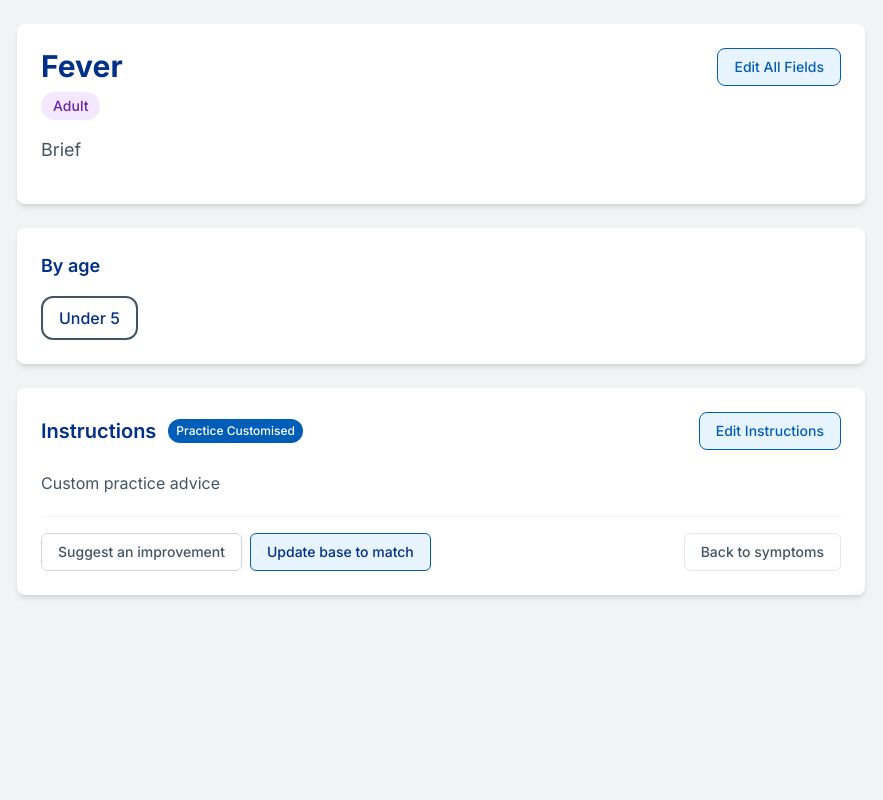
Test: InstructionView variants › sends changed shared variants to the base symptom in a separate PATCH
This screenshot has width=883, height=800.
Click the button "Edit All Fields".
click(779, 67)  # box [717, 48, 841, 86]
(page scrolled)
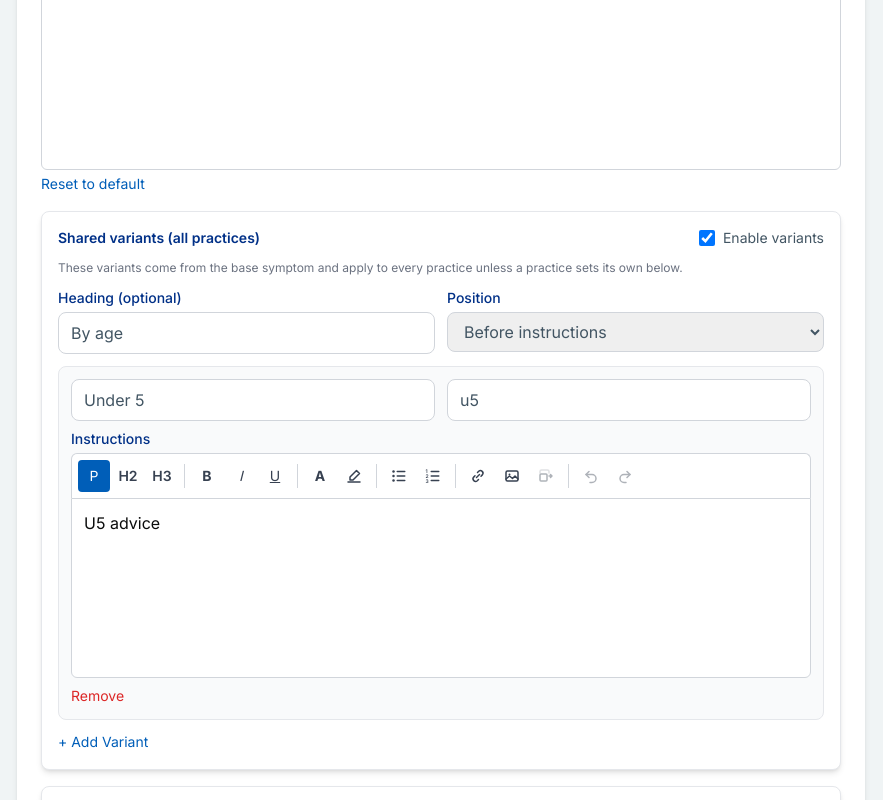
Replace the text in the 2nd field showing "Under 5" with "Under Five" at [253, 400], box [71, 379, 435, 421]
(page scrolled)
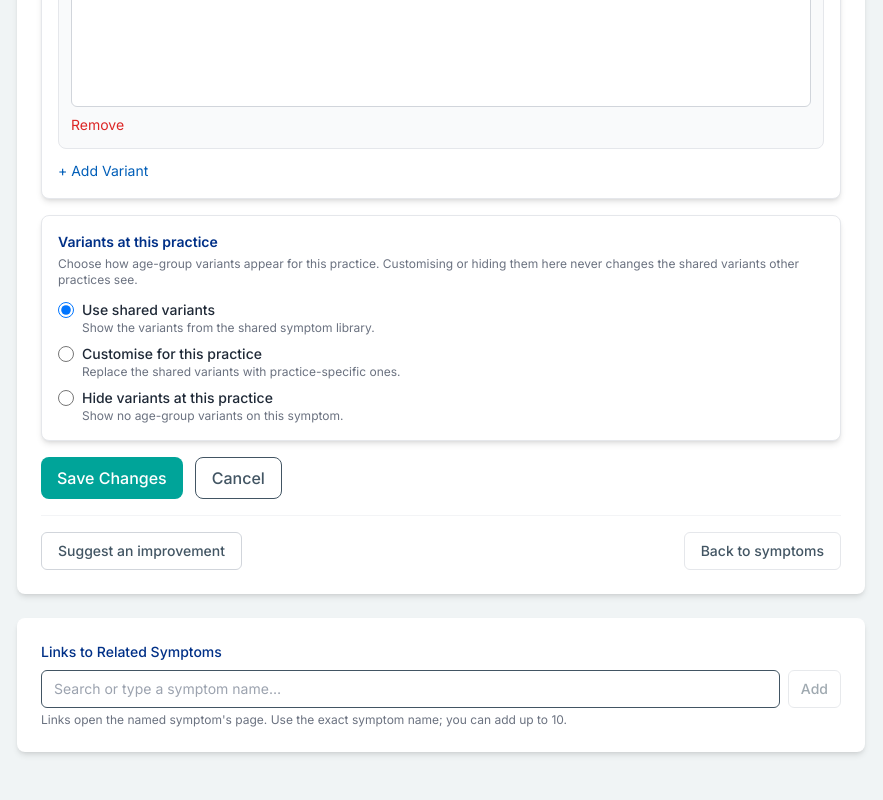
Click the button "Save Changes".
click(112, 478)  # box [41, 457, 183, 499]
(page scrolled)
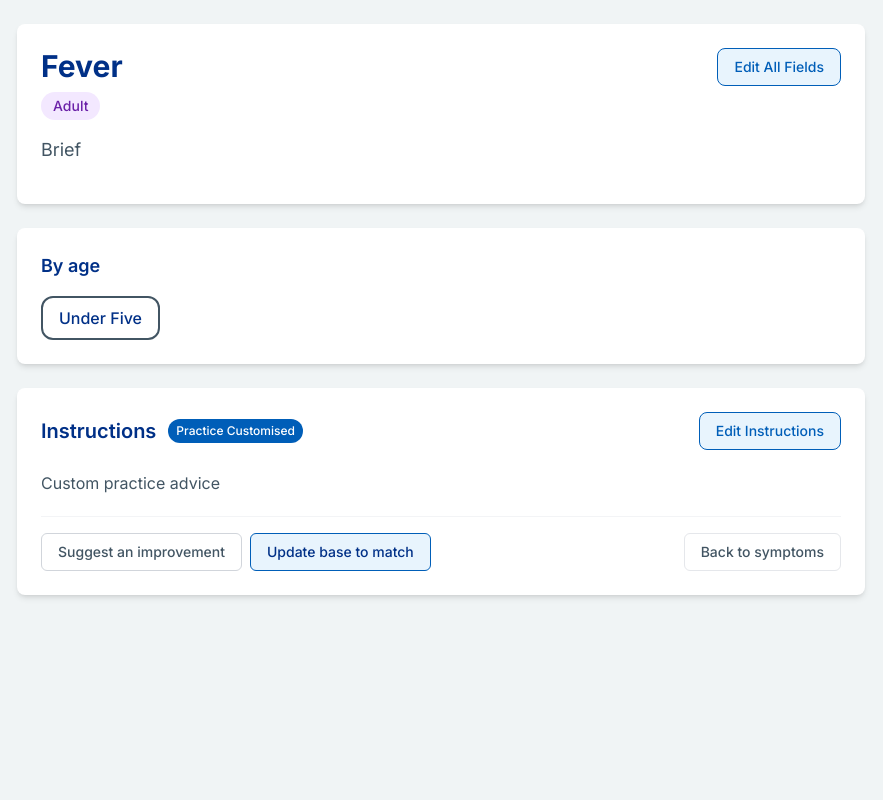
Expected: the button "Under Five" is shown, [41, 296, 160, 340]
